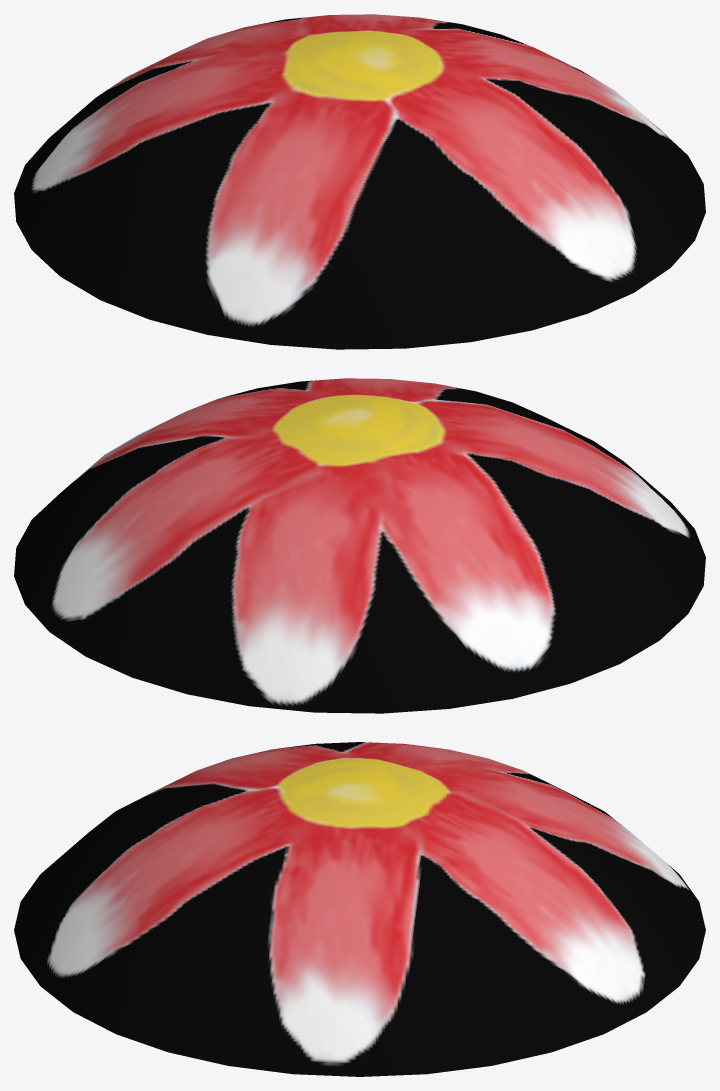
The model's file is flowerRed.FBX.
3 views of the same model, one above another, from view 1: azimuth 30°, elevation 25°; view 2: azimuth 150°, elevation 25°; view 3: azimuth 270°, elevation 25° (orthographic).
Parts seen in each view (by area): view 1: Sphere001; view 2: Sphere001; view 3: Sphere001.
Part boxes in pixels (x1,y1,x2,y2): Sphere001: (14,14,705,349); Sphere001: (14,378,705,713); Sphere001: (14,742,705,1076).
Size of the model in its own units: 27.09 by 6.35 by 27.09.
1 material, 1 textured.
